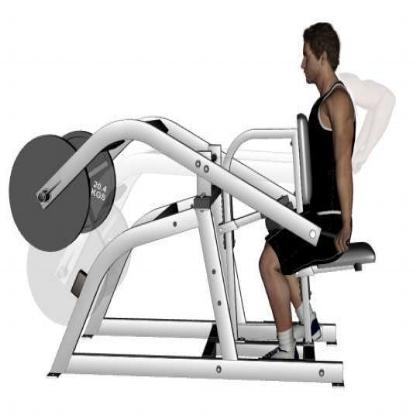seated dip machine: (9, 115, 377, 383)
